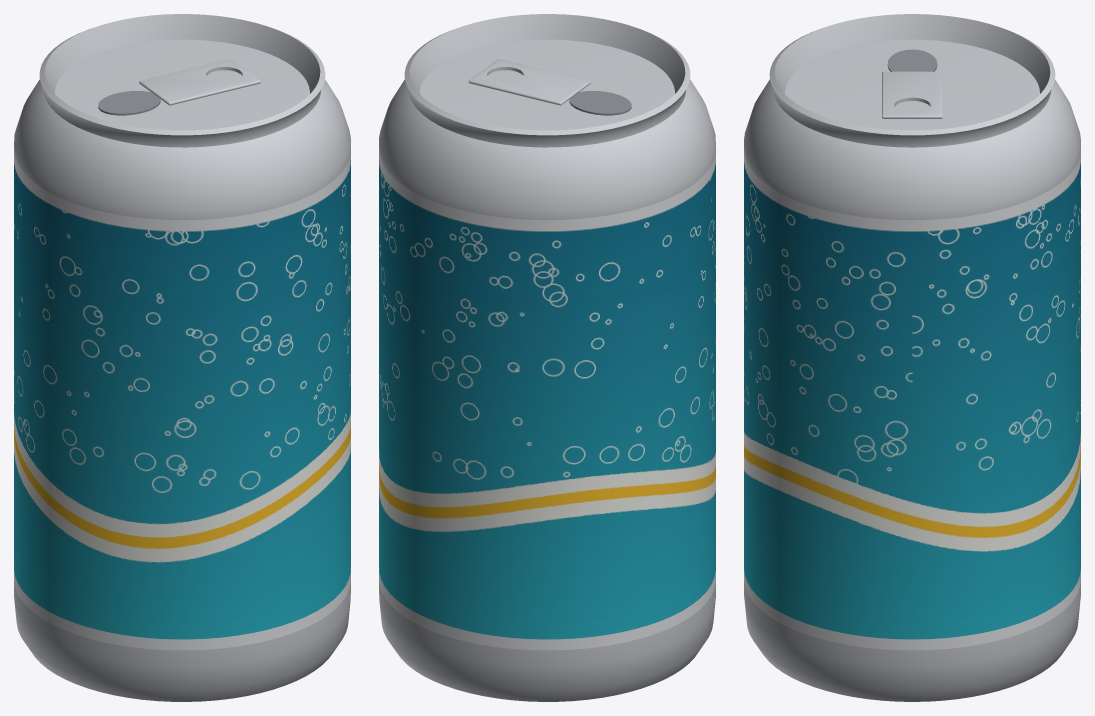
The model's file is soda-can.glb.
3 renders of one model, left to right at view 1: azimuth 30°, elevation 25°; view 2: azimuth 150°, elevation 25°; view 3: azimuth 270°, elevation 25°, orthographic.
Visible parts, largest first — view 1: soda-can_body, soda-can_tab, soda-can_opening; view 2: soda-can_body, soda-can_tab, soda-can_opening; view 3: soda-can_body, soda-can_tab, soda-can_opening.
Boxes of the visible parts, x1,y1,x2,y2 form: soda-can_body: (14, 14, 350, 701); soda-can_tab: (139, 59, 261, 105); soda-can_opening: (98, 91, 160, 115); soda-can_body: (379, 14, 715, 701); soda-can_tab: (468, 59, 590, 105); soda-can_opening: (569, 91, 631, 115); soda-can_body: (744, 14, 1080, 701); soda-can_tab: (882, 71, 942, 118); soda-can_opening: (887, 49, 937, 71).
Bounding box in the file's own units: 0.066 × 0.1231 × 0.066.
3 materials, 1 textured.
